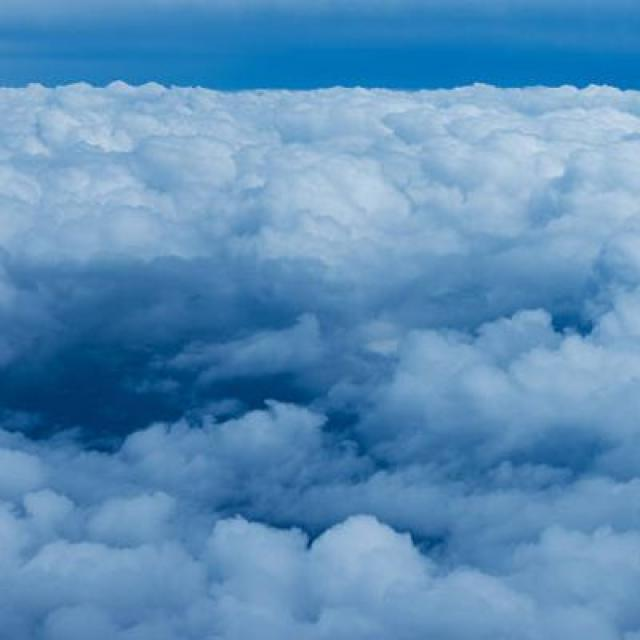Ac: (4, 79, 640, 640)
